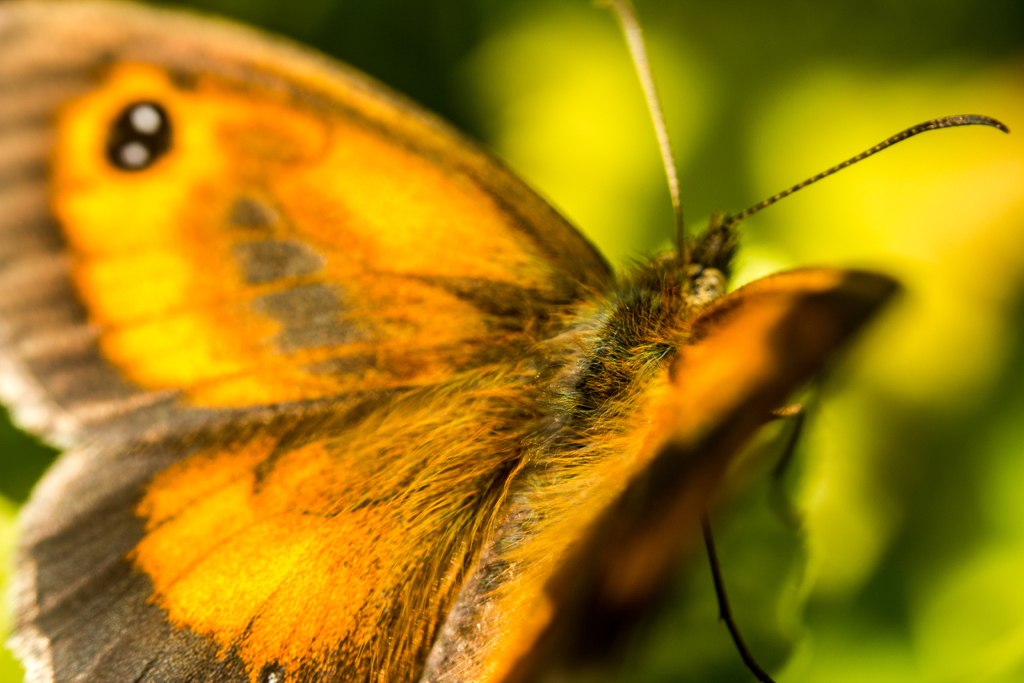Butterfly: (25, 10, 1024, 676)
